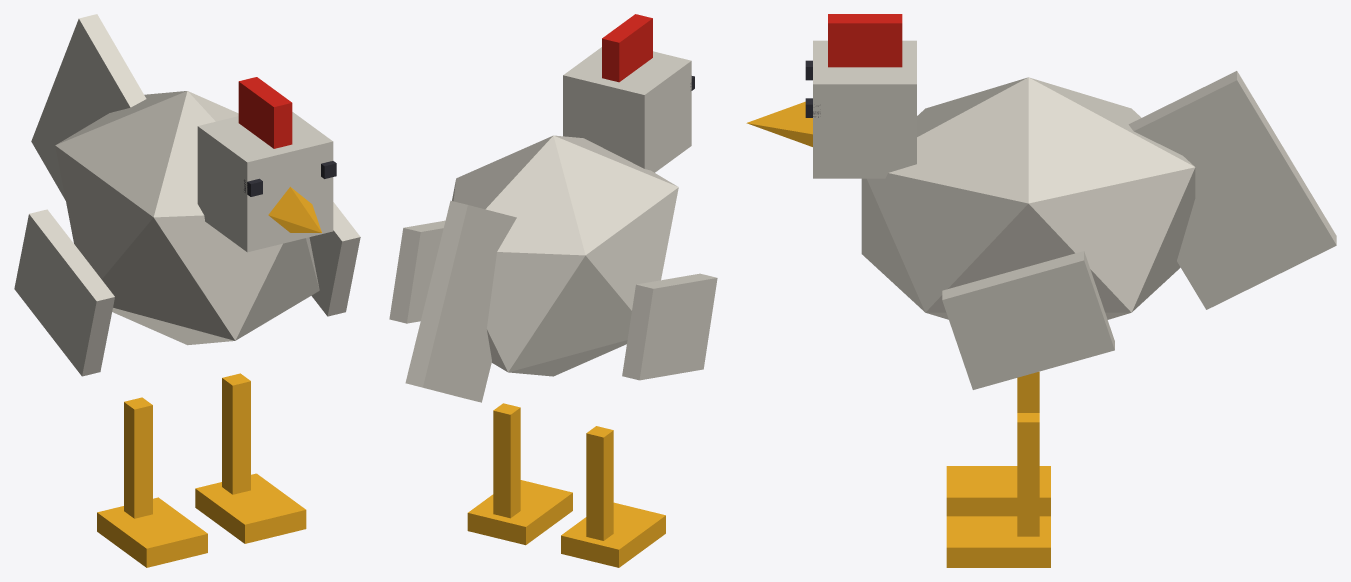
The model's file is hen.glb.
The picture shows the model from 3 angles, left to right: view 1: azimuth 30°, elevation 25°; view 2: azimuth 150°, elevation 25°; view 3: azimuth 270°, elevation 25°; orthographic projection. The views are drawn at different scales.
Visible parts, largest first — view 1: hen; view 2: hen; view 3: hen.
Part boxes in pixels (x1,y1,x2,y2): hen: (14,14,360,567); hen: (389,14,717,567); hen: (746,14,1336,567).
Bounding box in the file's own units: 0.43 × 0.755 × 0.7949.
